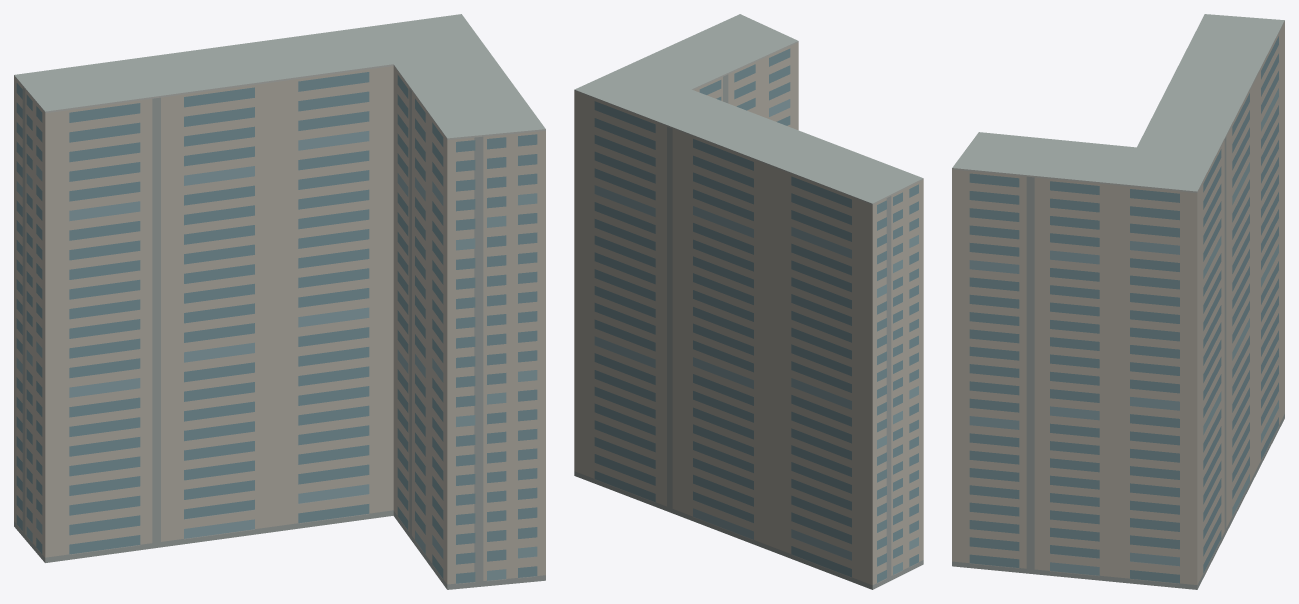
Rendered from residential-e701b766-c176-482e-ba30-033997dff6be.glb.
The picture shows the model from 3 angles, left to right: view 1: azimuth 30°, elevation 25°; view 2: azimuth 150°, elevation 25°; view 3: azimuth 270°, elevation 25°; orthographic projection. The views are drawn at different scales.
Parts seen in each view (by area): view 1: residential-e701b766-c176-482e-ba30-033997dff6be.tmp; view 2: residential-e701b766-c176-482e-ba30-033997dff6be.tmp; view 3: residential-e701b766-c176-482e-ba30-033997dff6be.tmp.
Boxes of the visible parts, left/top/right/bottom form: residential-e701b766-c176-482e-ba30-033997dff6be.tmp: left=14, top=14, right=545, bottom=589; residential-e701b766-c176-482e-ba30-033997dff6be.tmp: left=574, top=14, right=923, bottom=589; residential-e701b766-c176-482e-ba30-033997dff6be.tmp: left=952, top=14, right=1284, bottom=589.
Bounding box in the file's own units: 62.14 × 65 × 49.2.
